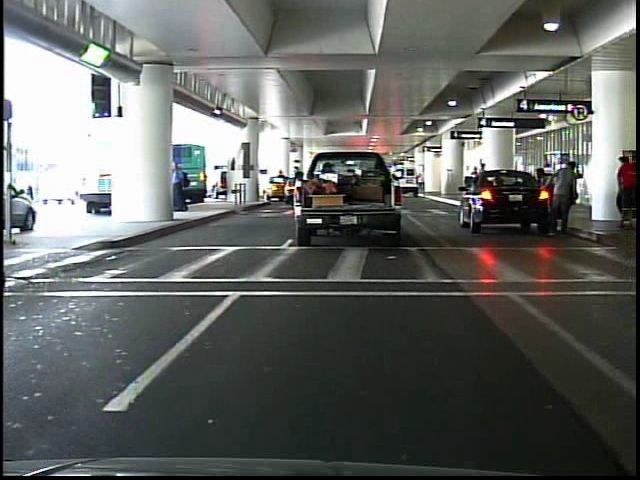person: (541, 150, 582, 240), (613, 150, 637, 205)
